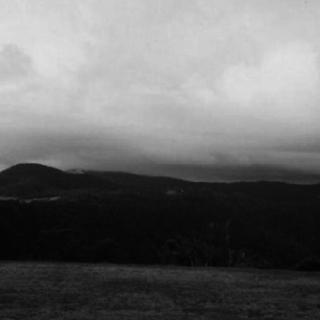Stratocumulus: (0, 0, 320, 173)
